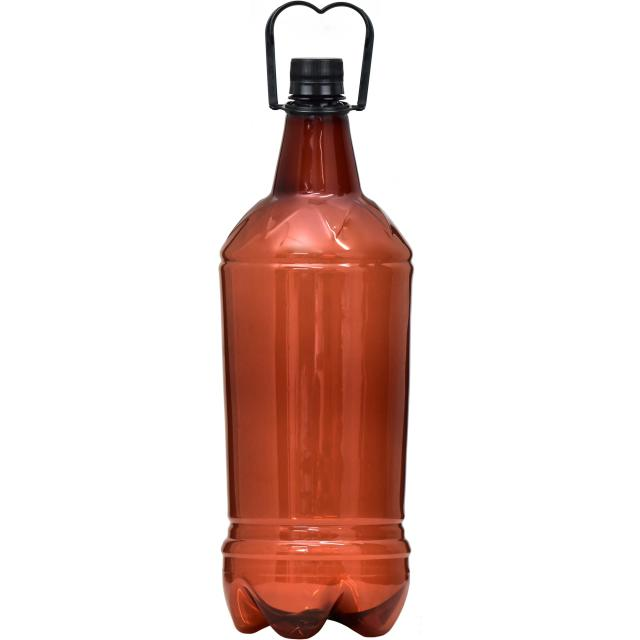bottom: (206, 527, 429, 639)
cap: (262, 46, 363, 128)
